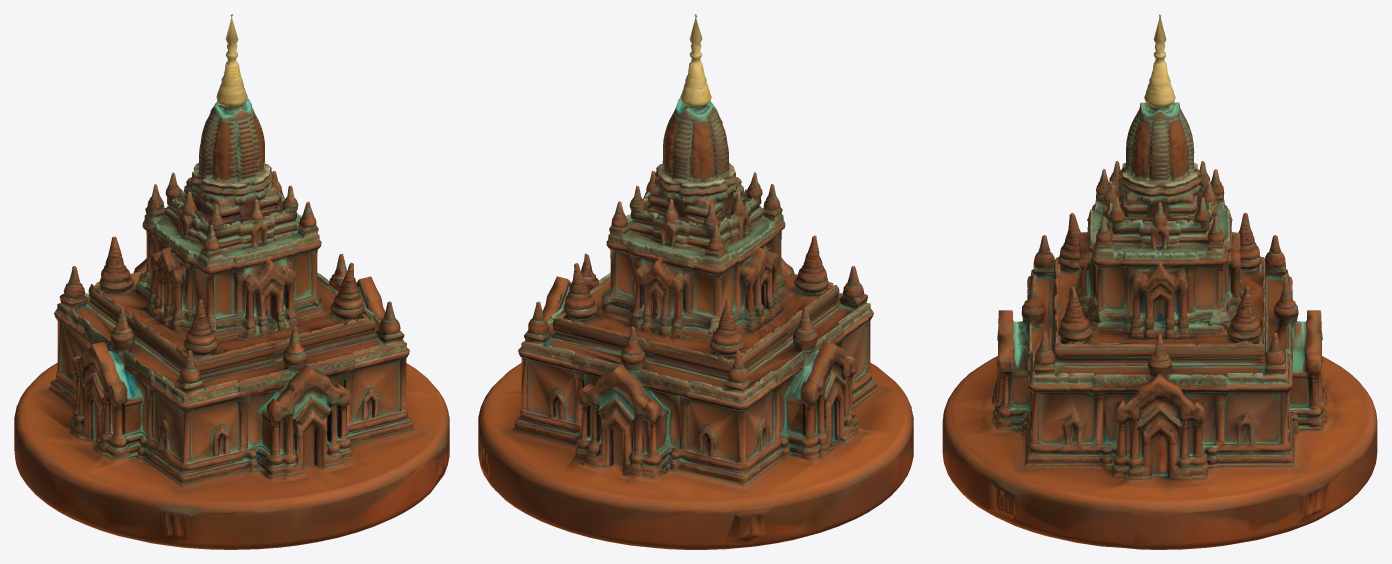
File: bagan.glb
3 renders of one model, left to right at view 1: azimuth 30°, elevation 25°; view 2: azimuth 150°, elevation 25°; view 3: azimuth 270°, elevation 25°, orthographic.
Parts seen in each view (by area): view 1: Mesh_0; view 2: Mesh_0; view 3: Mesh_0.
Part boxes in pixels (left/top/right/bottom): Mesh_0: left=14, top=14, right=449, bottom=549; Mesh_0: left=478, top=14, right=913, bottom=549; Mesh_0: left=942, top=14, right=1377, bottom=549.
Size of the model in its own units: 1.68 by 1.91 by 1.68.
Materials: 1 (1 with a texture image).
